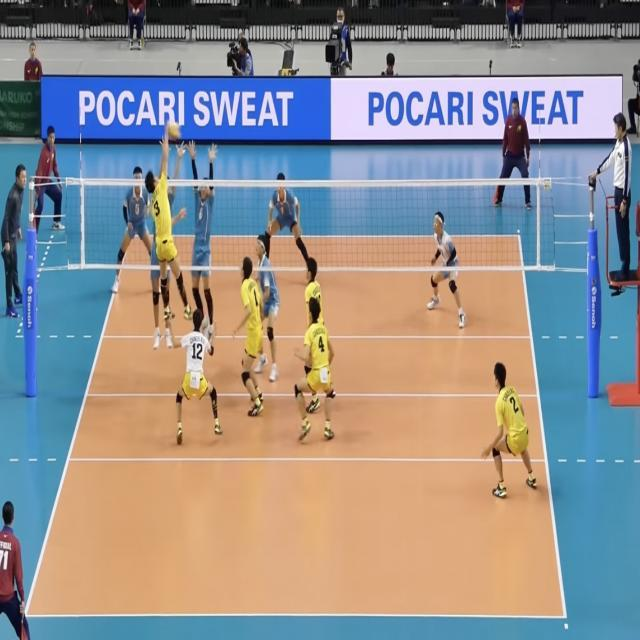spike: (141, 116, 195, 330)
